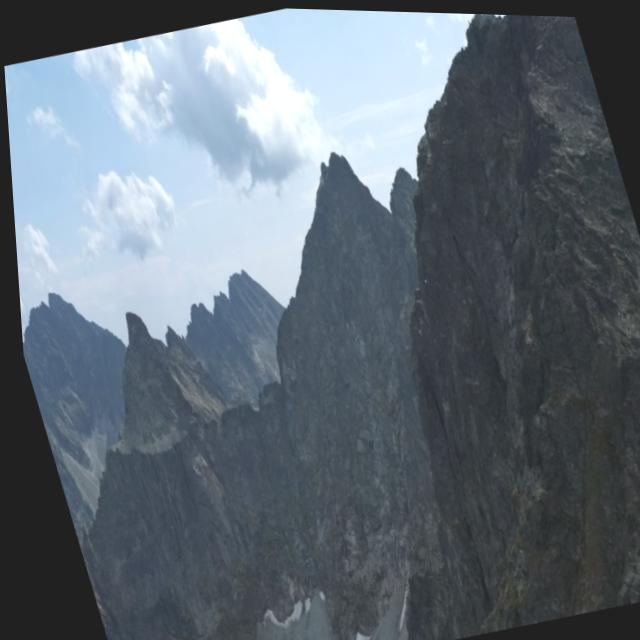Ganek: (72, 234, 193, 398)
Gerlachovsky Stit: (14, 215, 116, 364)
Koncista: (164, 192, 316, 352)
Rysy: (473, 14, 580, 51)
Vysoka: (238, 40, 439, 272)
